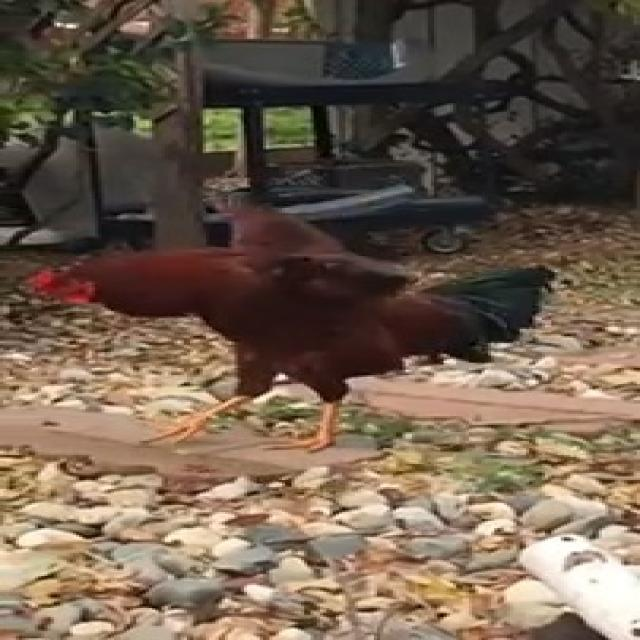wing flap: (25, 181, 558, 450)
